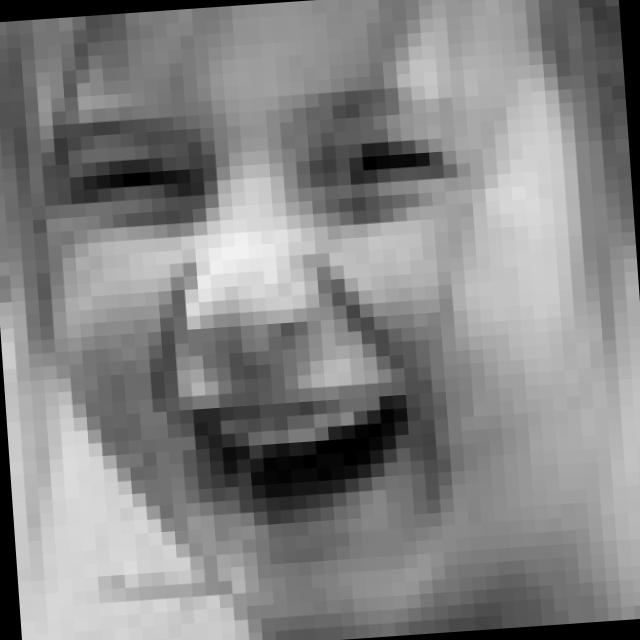happy: (49, 76, 508, 580)
